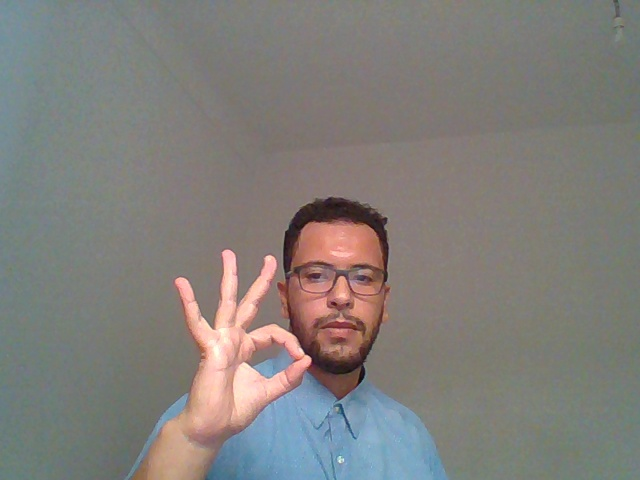okay: (150, 230, 313, 480)
